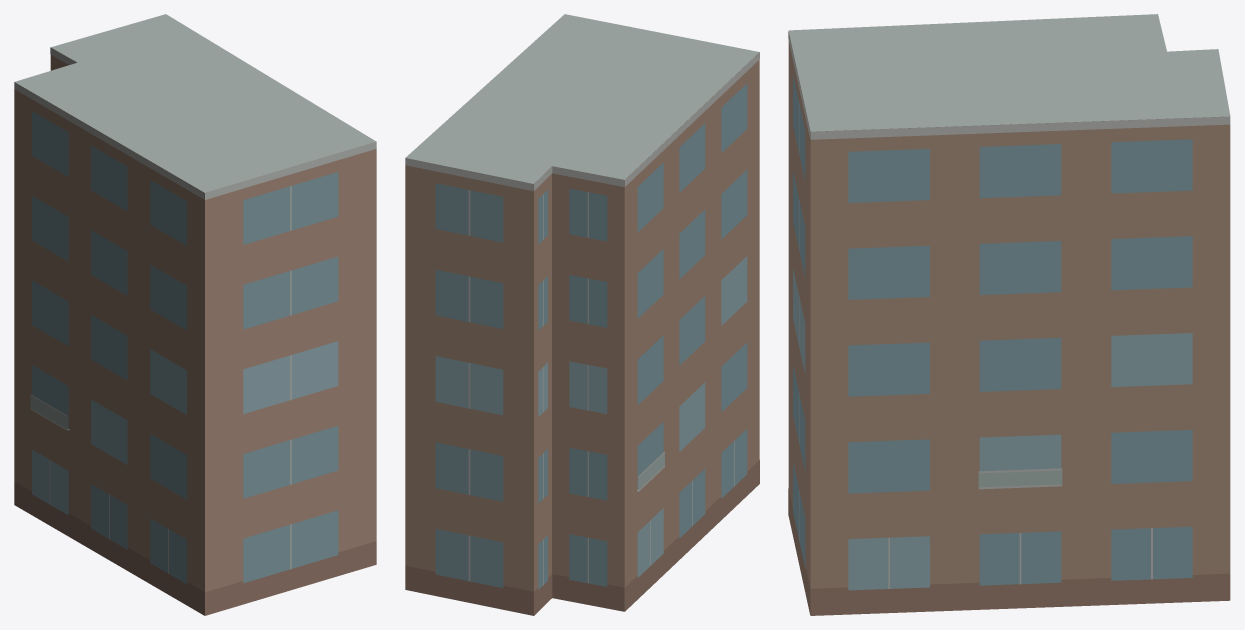
File: survey-upis-32621550.glb
3 views of the same model, side by side, from view 1: azimuth 30°, elevation 25°; view 2: azimuth 150°, elevation 25°; view 3: azimuth 270°, elevation 25° (orthographic). The views are drawn at different scales.
Visible parts, largest first — view 1: survey-upis-32621550.tmp; view 2: survey-upis-32621550.tmp; view 3: survey-upis-32621550.tmp.
Boxes of the visible parts, <box> form: survey-upis-32621550.tmp: <box>14,14,376,615</box>; survey-upis-32621550.tmp: <box>405,14,759,615</box>; survey-upis-32621550.tmp: <box>788,14,1230,615</box>.
Size of the model in its own units: 7.57 by 14.5 by 12.01.
